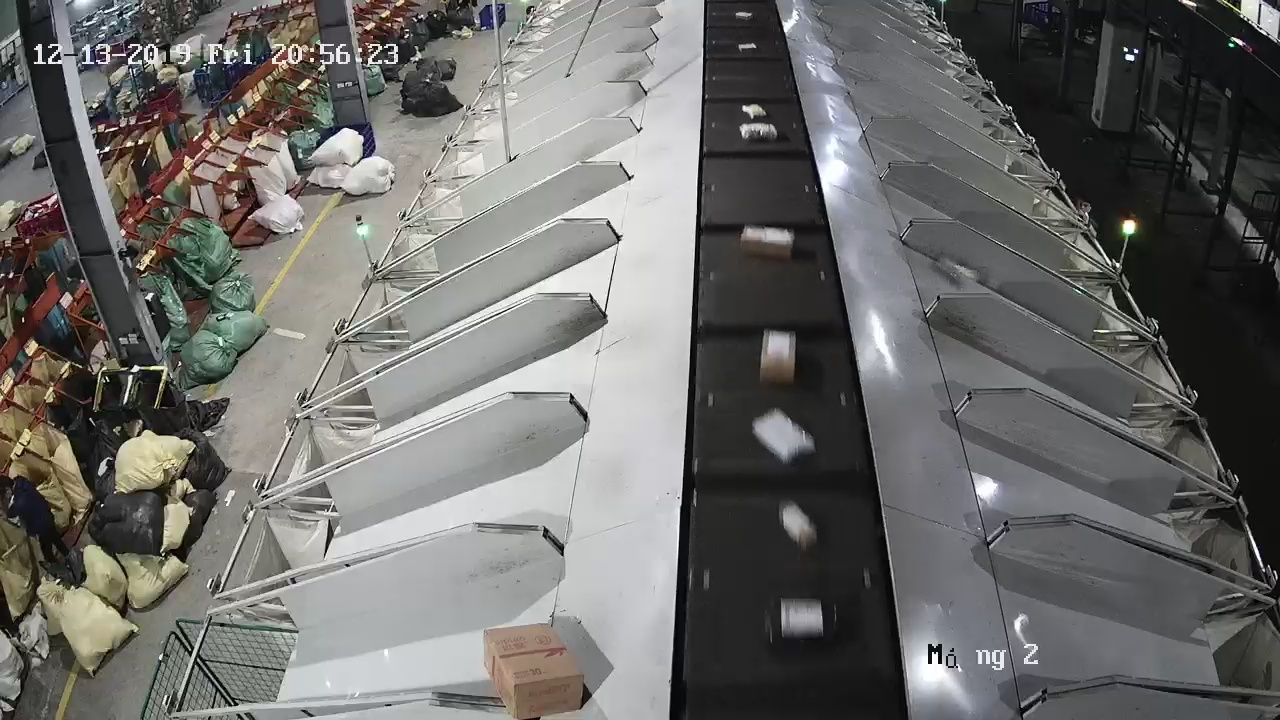parcel: (936, 255, 978, 286)
